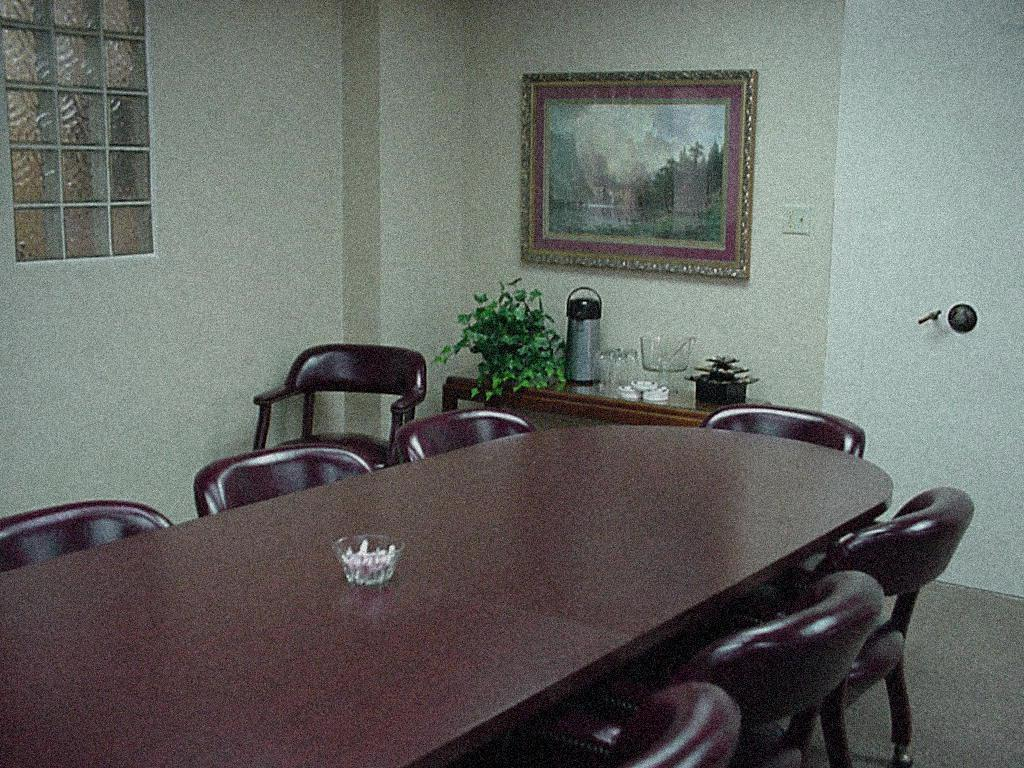Puerta: (864, 11, 1017, 591)
